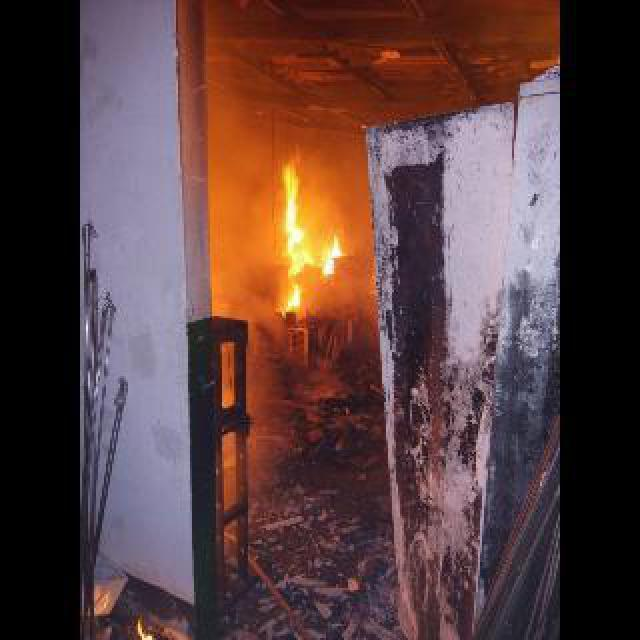Fire: (276, 140, 314, 274), (316, 234, 340, 274), (284, 284, 300, 308)
